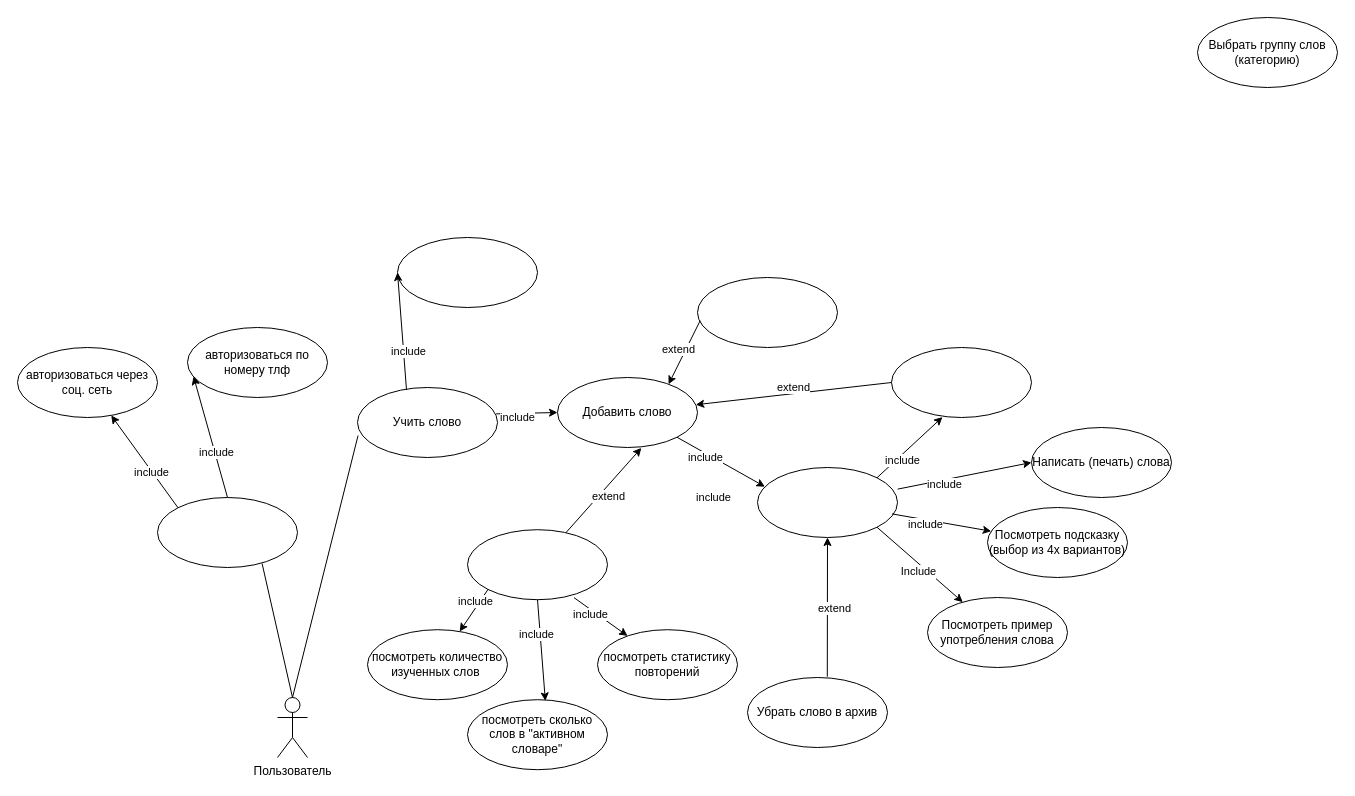
Some shapes in this 1355 by 796 pixel diagram are drawn without their labels. Each missing label, with the centre of its shape:
Авторизоваться: the point at 227,532
Выбрать язык: the point at 467,272
Добавить свой пример: the point at 767,312
Повторить слово: the point at 827,502
посмотреть прогресс: the point at 537,564
Прослушать слово: the point at 961,382
